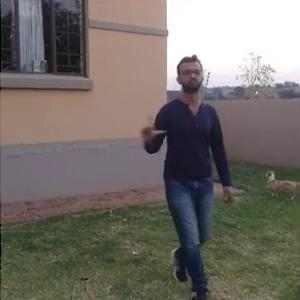land_hand: (135, 113, 166, 143)
